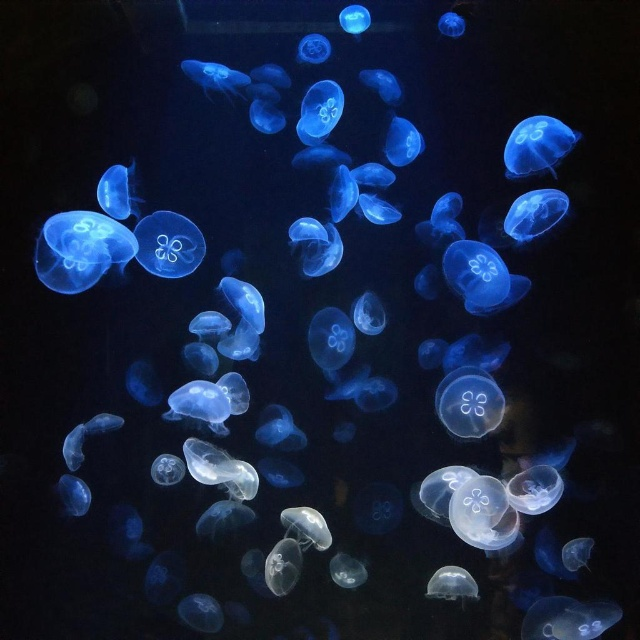Jellyfish: (32, 4, 624, 640)
